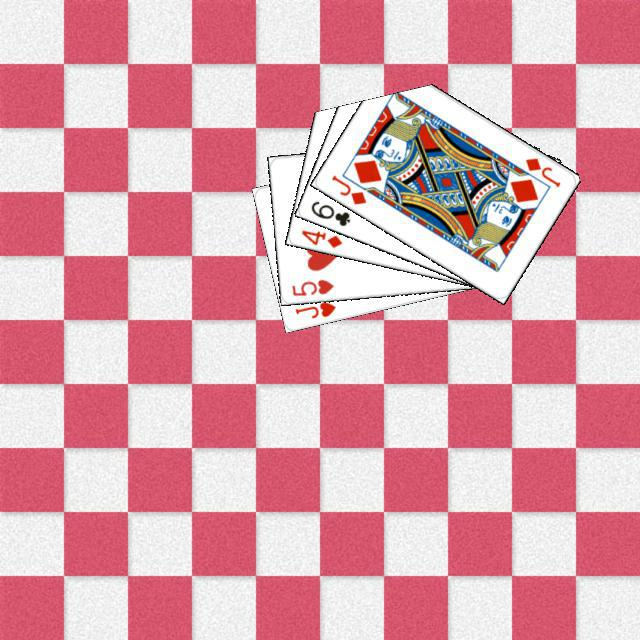4d: (296, 225, 344, 250)
5h: (287, 275, 335, 298)
6c: (306, 196, 352, 228)
Jd: (327, 170, 368, 207), (520, 153, 562, 189)
Jh: (290, 297, 337, 320)
